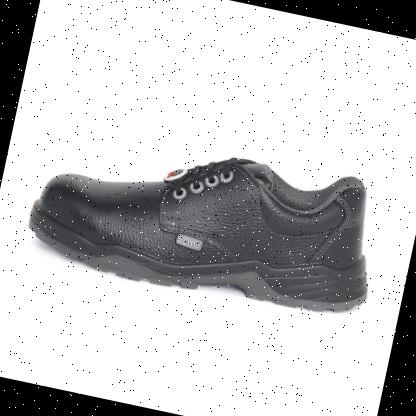bota: (15, 106, 396, 335)
